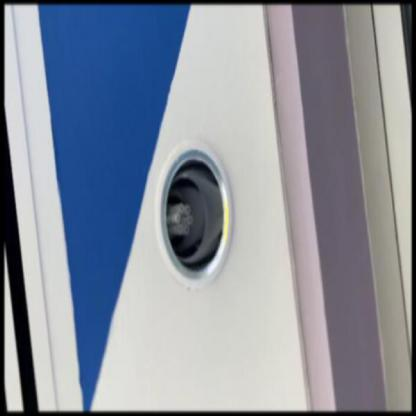light_off: (143, 100, 243, 302)
